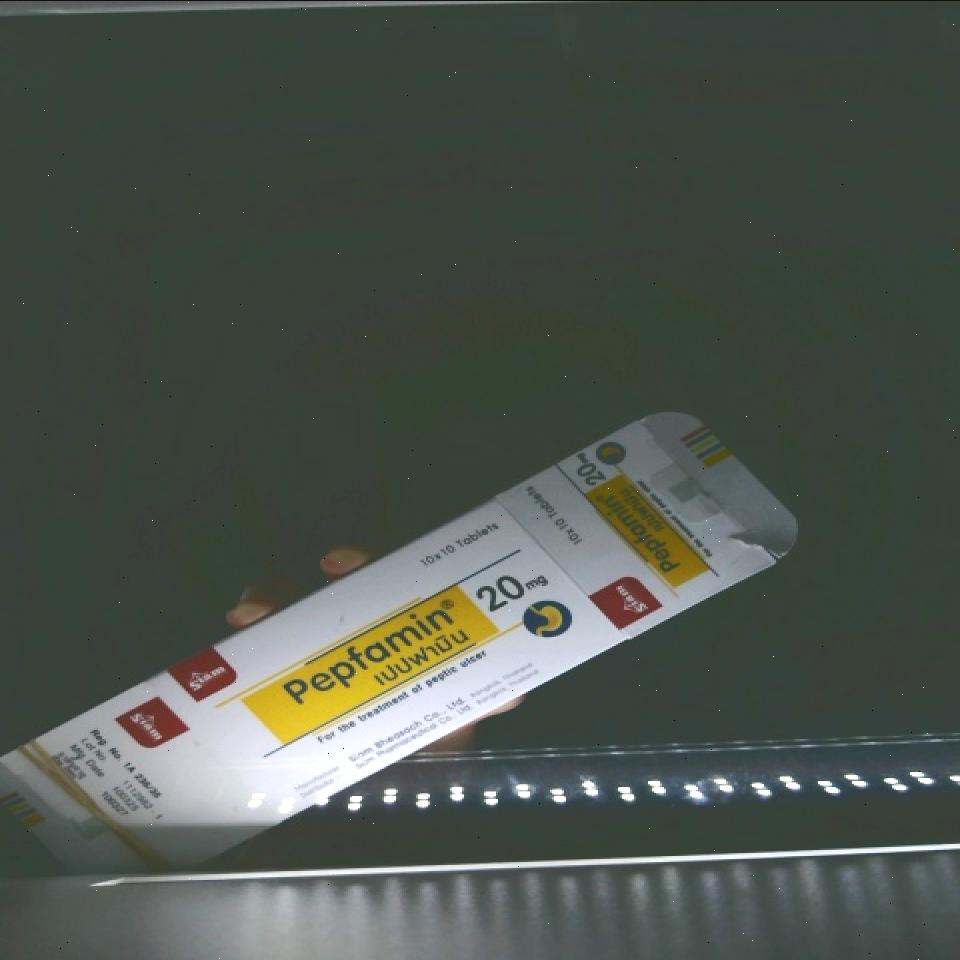medicine_box: (0, 365, 798, 950)
medicine_label_obb: (249, 582, 486, 751)
